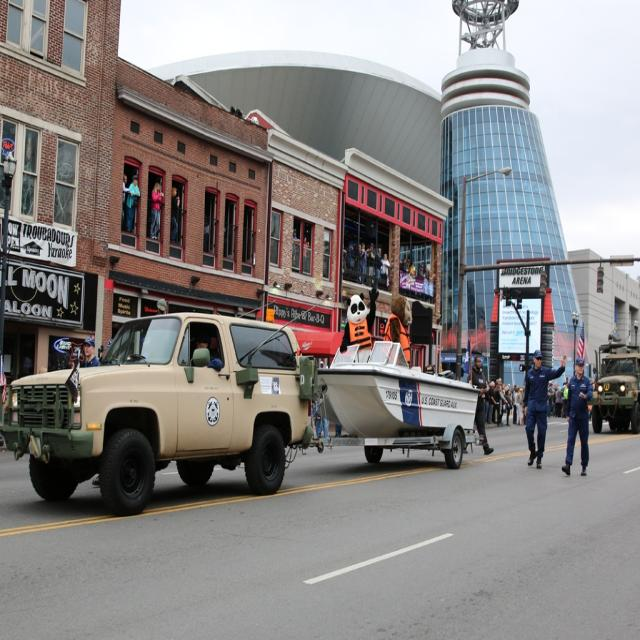car: (3, 297, 330, 510)
